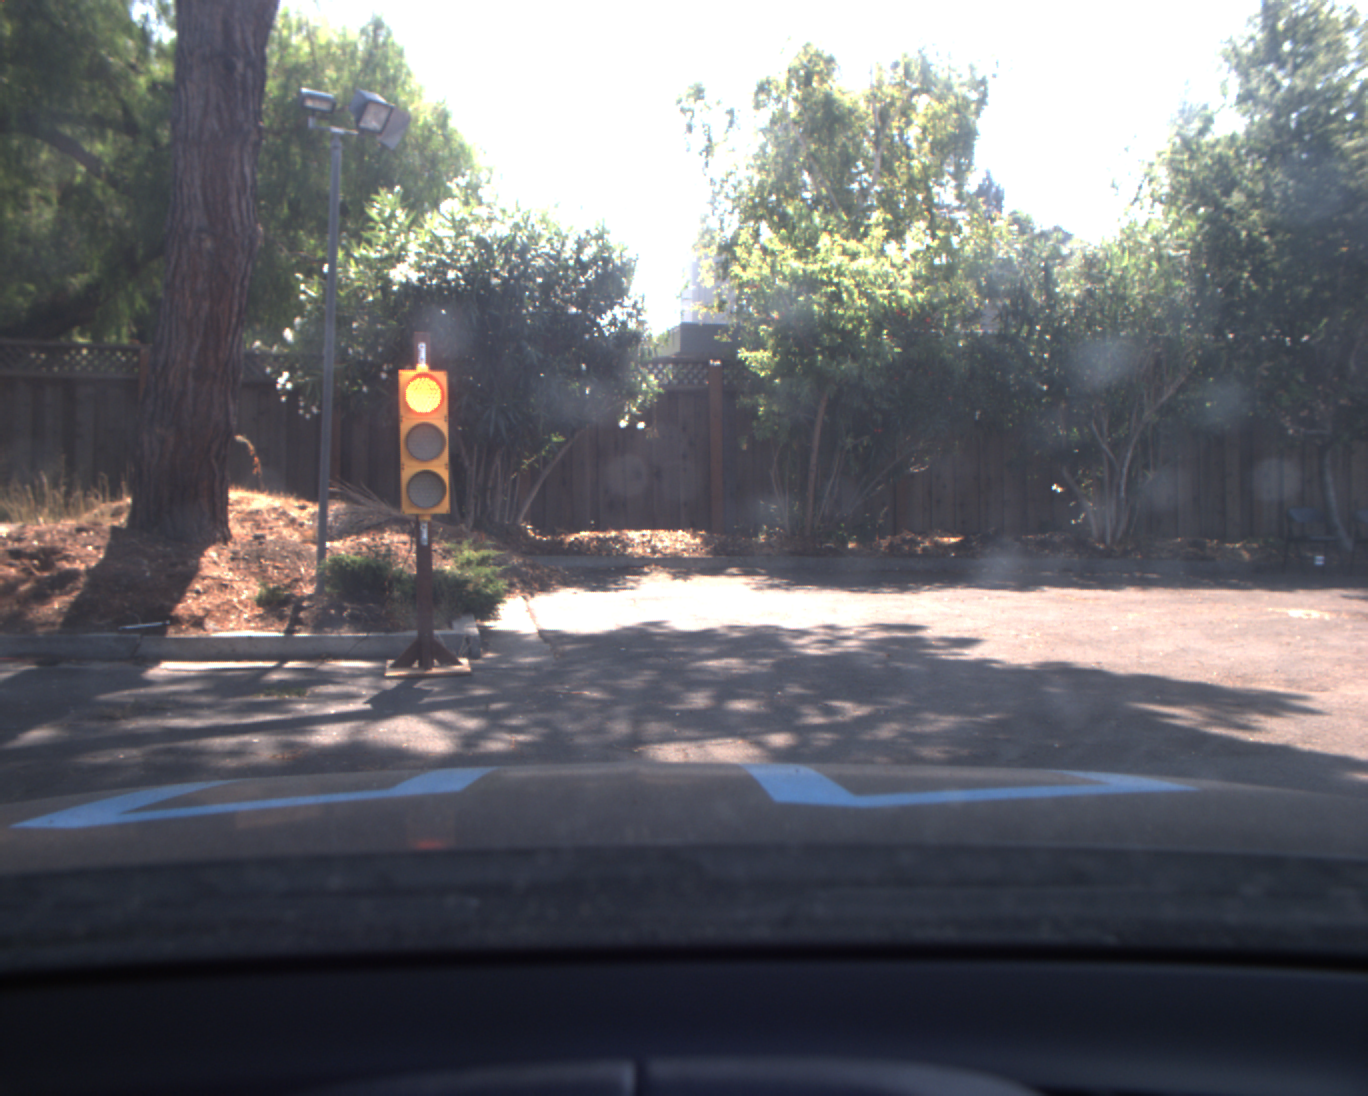red: (394, 363, 455, 517)
